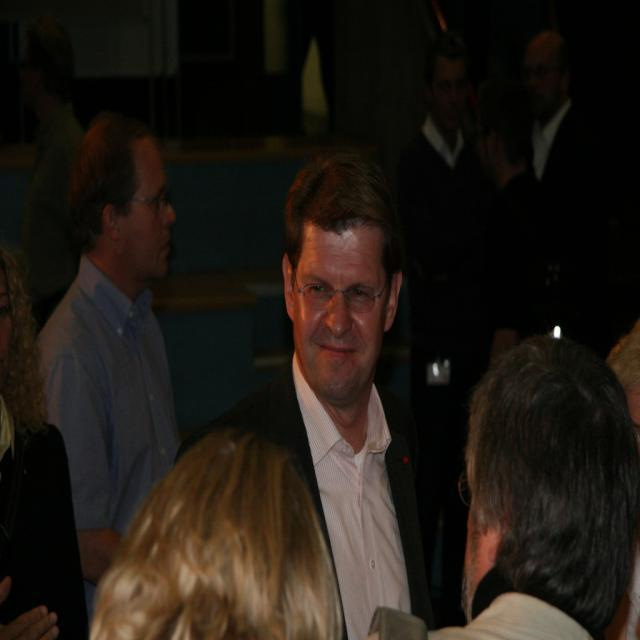closed-mouth: (316, 342, 354, 356)
